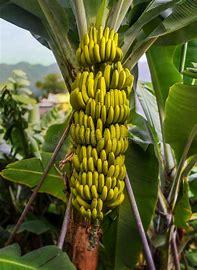banana: (55, 24, 140, 217), (59, 80, 129, 146), (62, 143, 123, 210), (60, 34, 137, 82)
